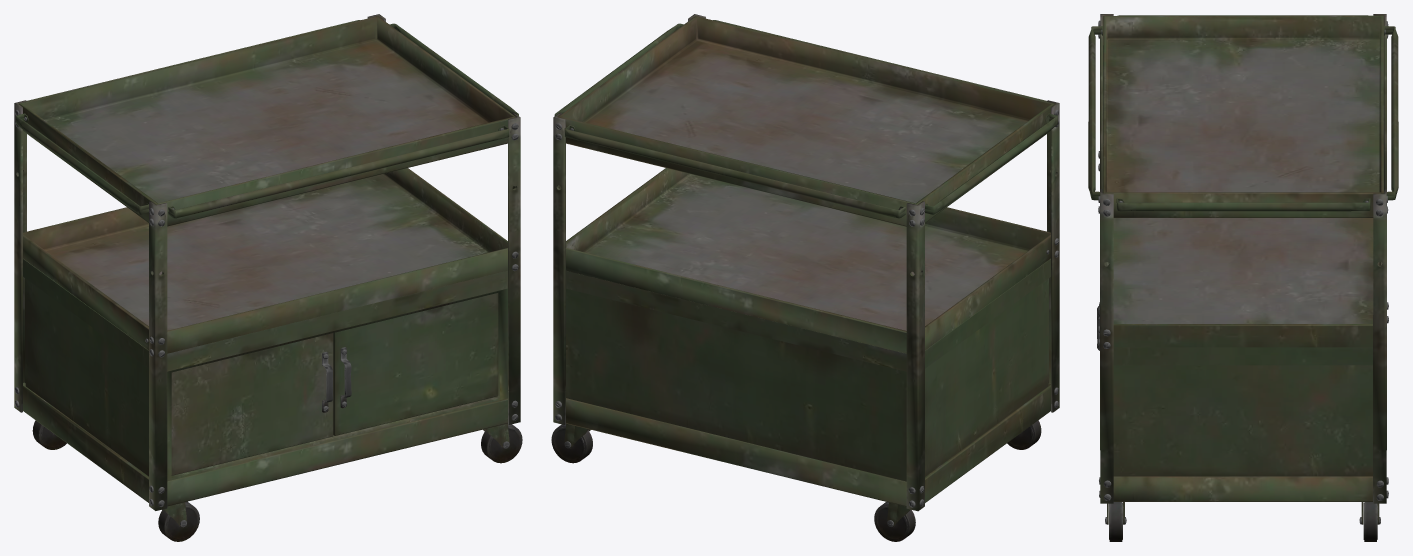
File: storage-cart.glb
3 views of the same model, side by side, from view 1: azimuth 30°, elevation 25°; view 2: azimuth 150°, elevation 25°; view 3: azimuth 270°, elevation 25° (orthographic).
Visible parts, largest first — view 1: industrial_storage_cart; view 2: industrial_storage_cart; view 3: industrial_storage_cart.
Boxes of the visible parts, x1,y1,x2,y2 form: industrial_storage_cart: (14, 14, 522, 541); industrial_storage_cart: (551, 14, 1059, 541); industrial_storage_cart: (1088, 14, 1398, 541).
Size of the model in its own units: 1.6 by 1.38 by 1.1.
Materials: 1 (1 with a texture image).
